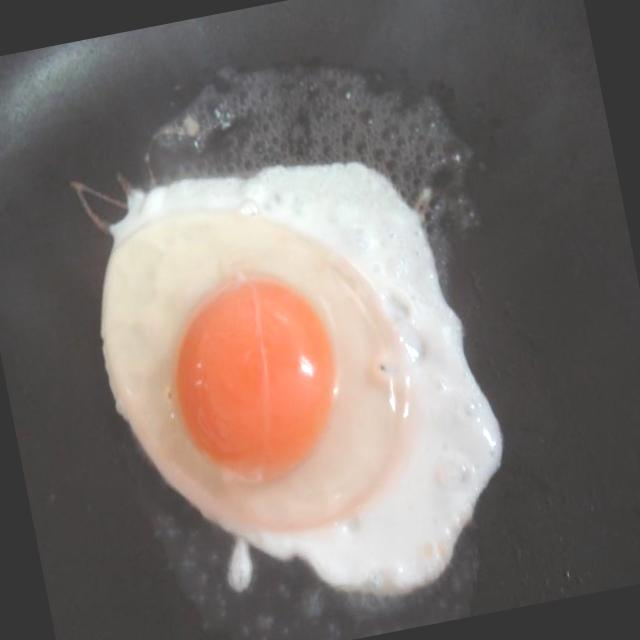Egg: (56, 99, 546, 640)
